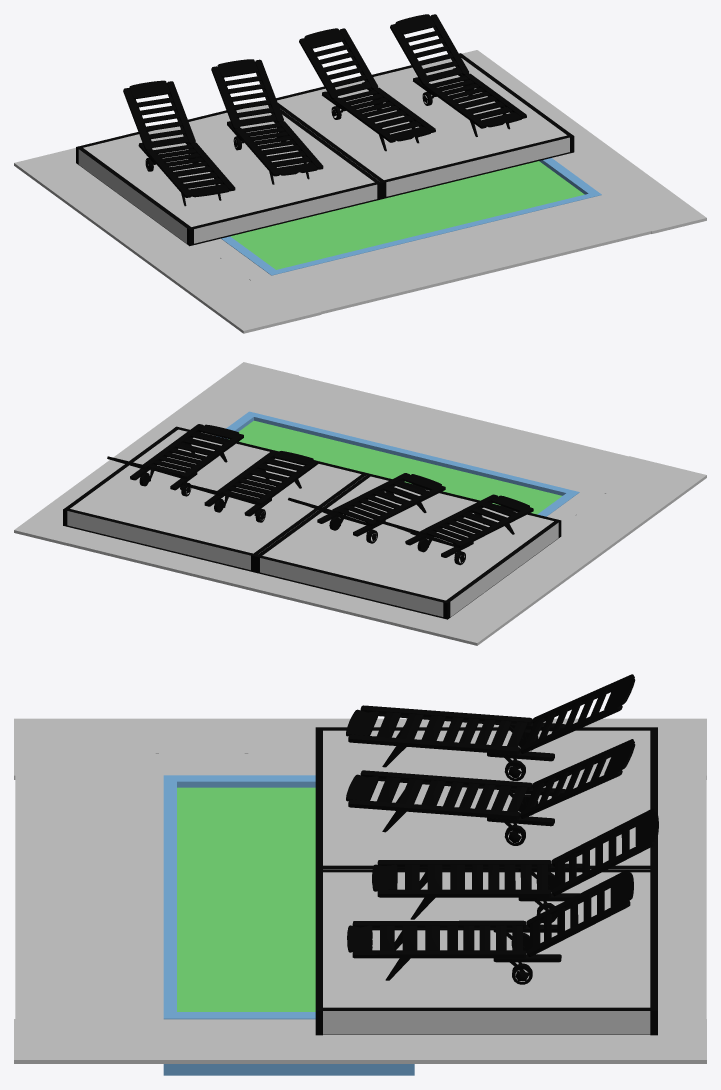
Rendered from Moon Deck.glb.
3 views of the same model, one above another, from view 1: azimuth 30°, elevation 25°; view 2: azimuth 150°, elevation 25°; view 3: azimuth 270°, elevation 25° (orthographic). The views are drawn at different scales.
Parts seen in each view (by area): view 1: Box001, Box283, Box285, entity_1, Shape001, arch22_003_11, arch22_003_029, arch22_003_059, arch22_003_088, arch22_003_07, arch22_003_037, arch22_003_087 (+13 smaller); view 2: Box001, Box283, Box285, entity_1, Shape002, arch22_003_07, arch22_003_087, arch22_003_058, arch22_003_037, Shape003, Shape001, Shape005 (+6 smaller); view 3: Box001, Box283, entity_1, Box285, arch22_003_07, arch22_003_037, arch22_003_058, arch22_003_087, Shape001, Shape002, arch22_003_088, arch22_003_059 (+23 smaller).
Boxes of the visible parts, x1=… form: Box001: x1=78, y1=58, x2=569, y2=243; Box283: x1=14, y1=50, x2=706, y2=333; Box285: x1=272, y1=194, x2=654, y2=314; entity_1: x1=221, y1=158, x2=601, y2=275; Shape001: x1=187, y1=134, x2=573, y2=245; arch22_003_11: x1=129, y1=80, x2=188, y2=147; arch22_003_029: x1=217, y1=59, x2=276, y2=126; arch22_003_059: x1=304, y1=28, x2=371, y2=95; arch22_003_088: x1=395, y1=14, x2=462, y2=81; arch22_003_07: x1=154, y1=144, x2=222, y2=188; arch22_003_037: x1=242, y1=123, x2=310, y2=167; arch22_003_087: x1=431, y1=76, x2=512, y2=119; Box001: x1=67, y1=429, x2=558, y2=616; Box283: x1=14, y1=362, x2=706, y2=645; Box285: x1=246, y1=375, x2=636, y2=493; entity_1: x1=216, y1=411, x2=579, y2=516; Shape002: x1=63, y1=508, x2=450, y2=618; arch22_003_07: x1=426, y1=502, x2=516, y2=544; arch22_003_087: x1=149, y1=432, x2=228, y2=475; arch22_003_058: x1=223, y1=458, x2=303, y2=501; arch22_003_037: x1=338, y1=480, x2=428, y2=522; Shape003: x1=443, y1=520, x2=561, y2=619; Shape001: x1=174, y1=427, x2=560, y2=537; Shape005: x1=251, y1=472, x2=368, y2=572; Box001: x1=323, y1=730, x2=650, y2=1034; Box283: x1=14, y1=718, x2=706, y2=1063; entity_1: x1=163, y1=775, x2=414, y2=1075; Box285: x1=15, y1=770, x2=163, y2=1021; arch22_003_07: x1=376, y1=712, x2=527, y2=746; arch22_003_037: x1=377, y1=777, x2=527, y2=811; arch22_003_058: x1=405, y1=864, x2=547, y2=889; arch22_003_087: x1=380, y1=925, x2=522, y2=950; Shape001: x1=315, y1=728, x2=322, y2=1035; Shape002: x1=650, y1=727, x2=657, y2=1035; arch22_003_088: x1=529, y1=872, x2=633, y2=948; arch22_003_059: x1=555, y1=811, x2=658, y2=887.
Size of the model in its own units: 217 by 49.3 by 186.
